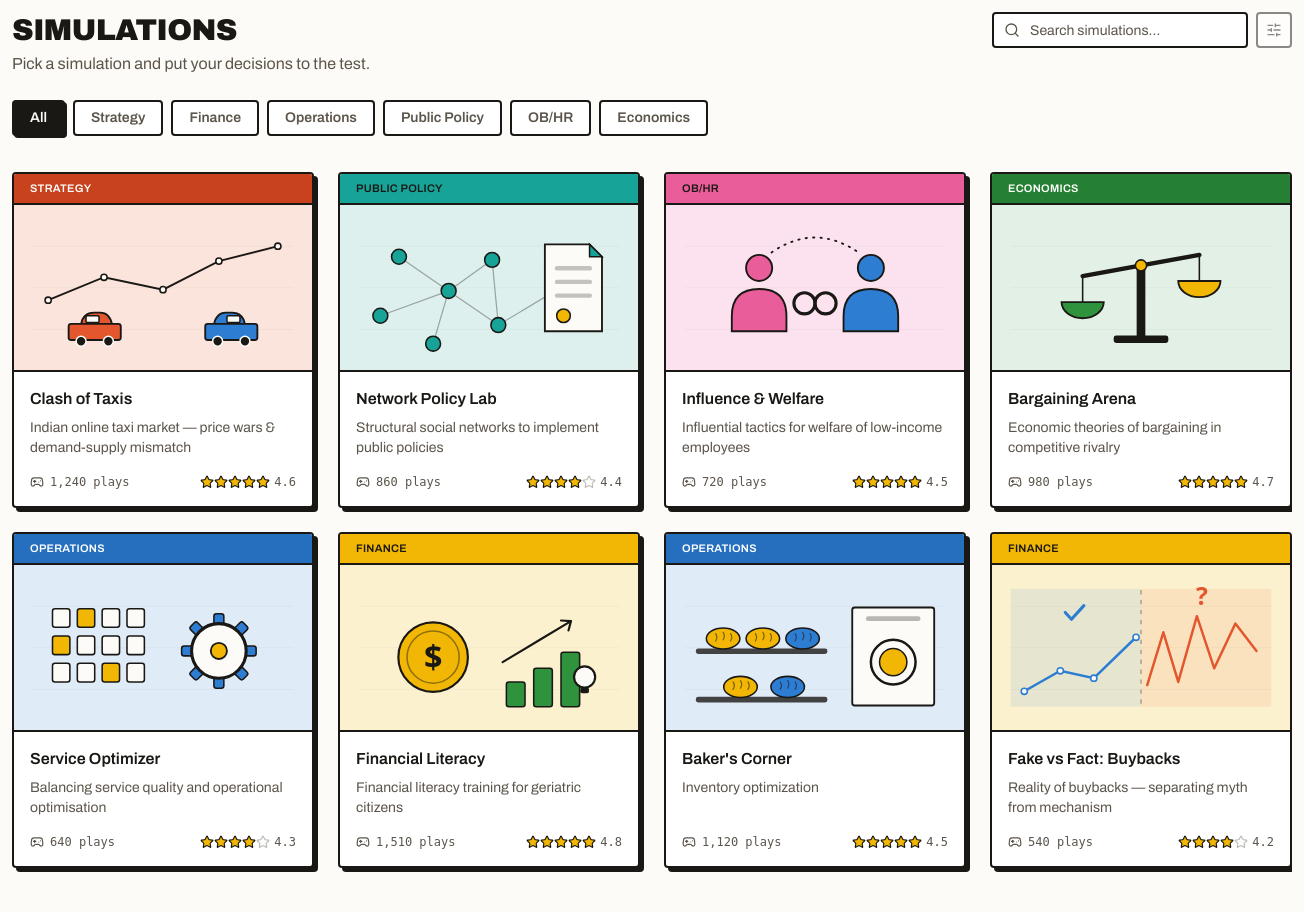
Scenario: SimulationsPage › filters by category token
What coordinates should you click on to do the following:
click the tab "Finance"
I would click on:
 (215, 118)
Its box is [171,100,259,136].
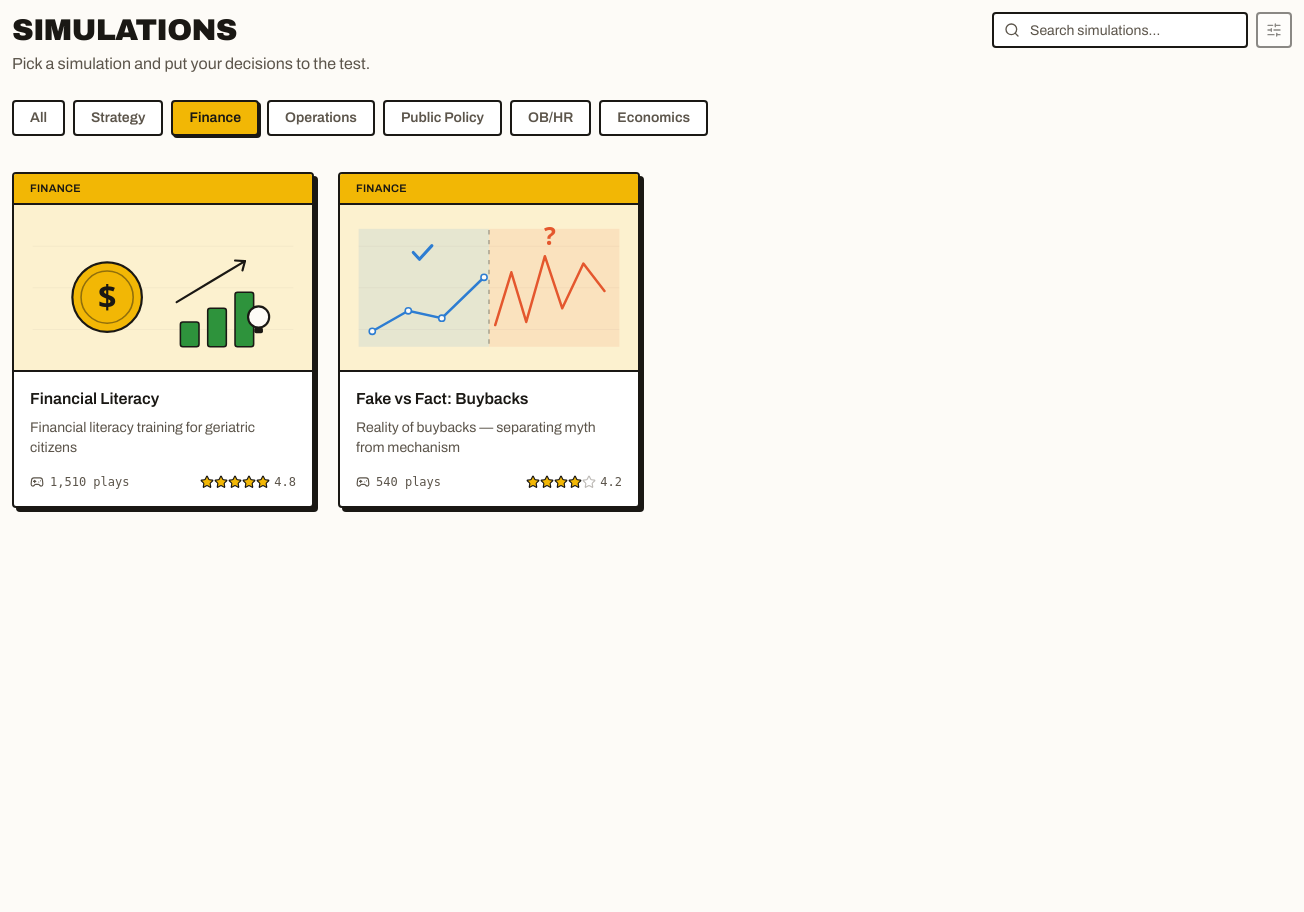
Check: the heading "Financial Literacy" is shown, box [30,390,159,407]
Check: the link "Clash of Taxis" is gone
